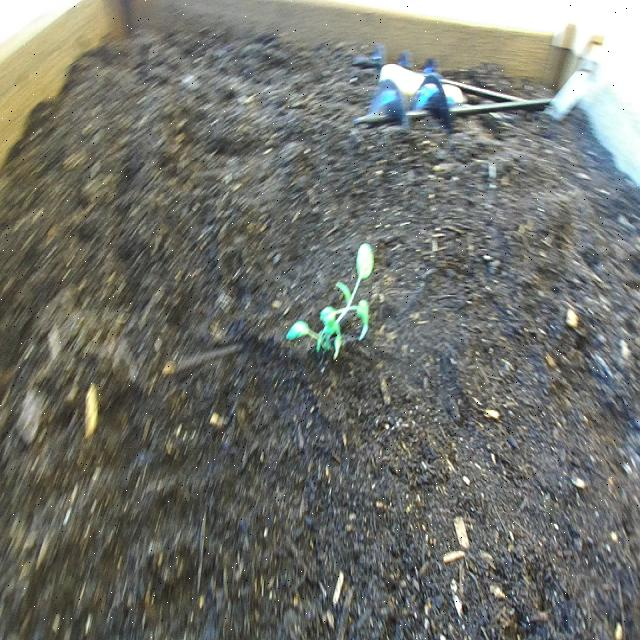Healthy: (282, 234, 389, 376)
